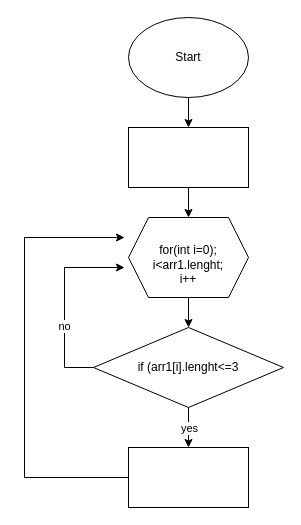
This 301x525 diagram has some shape labels left out. Here are the shapes that lost their labels. From the top down, the centre of each, then its label:
At point (188, 157): "string[] arr1 string [] arr2 int count = 0".
At point (188, 477): "arr2[count] = arr1[i] count ++".
